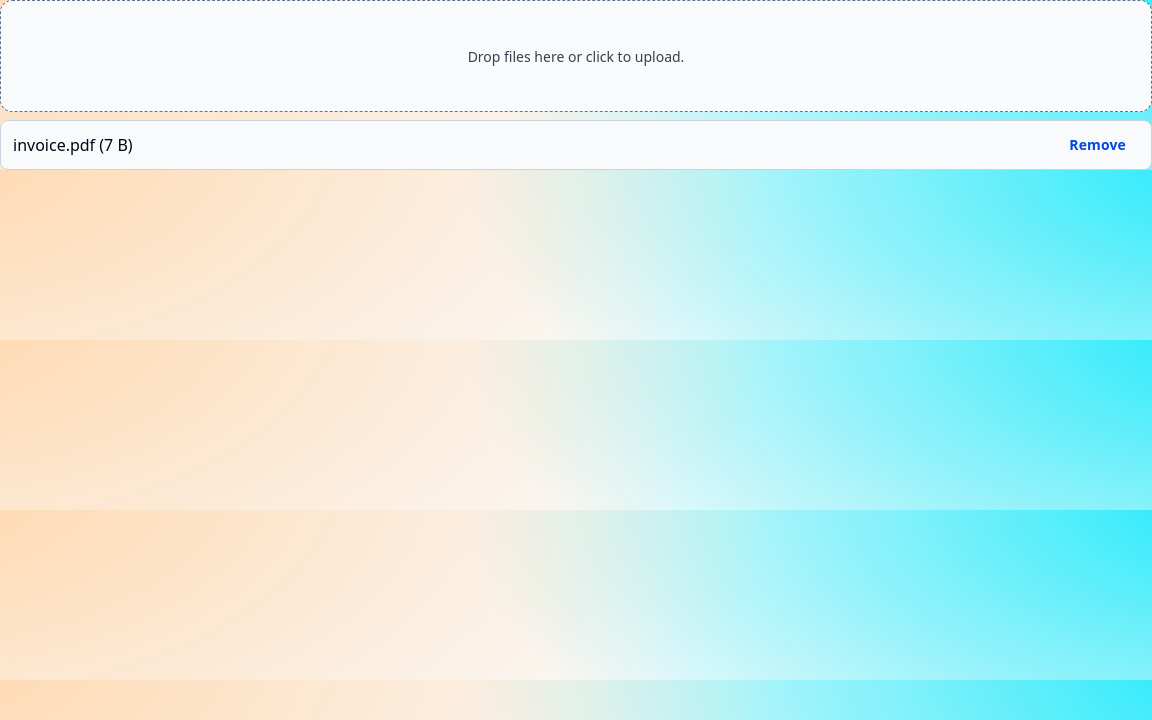
Test: FileUploader › removes uploaded file from list
The image size is (1152, 720).
Expected: the text "invoice.pdf (7 B)" is shown, [13,134,133,156]
Click the button "Remove": x=1098, y=145 [1056,129,1139,161]
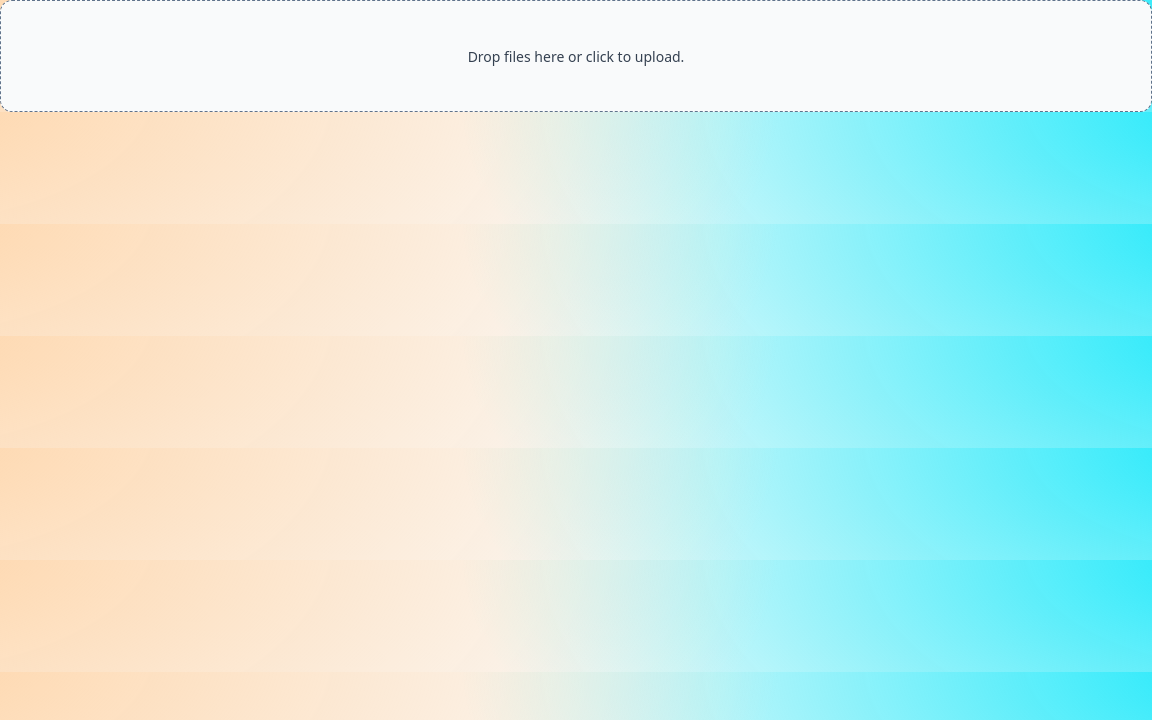
Expected: the text "invoice.pdf" is gone
